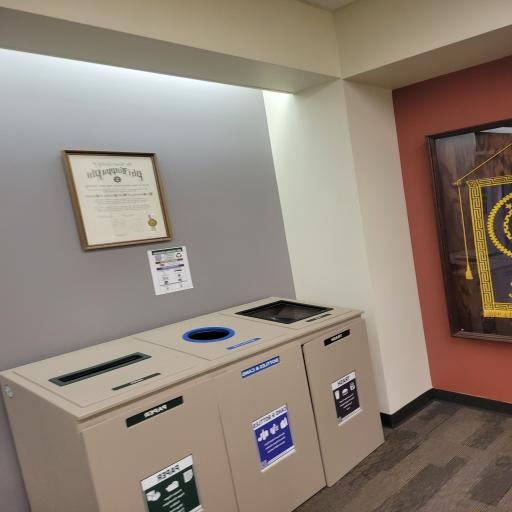can and bottle trash cans: (150, 315, 334, 491)
paper trash can: (16, 352, 239, 512)
trash can: (232, 298, 403, 456)
